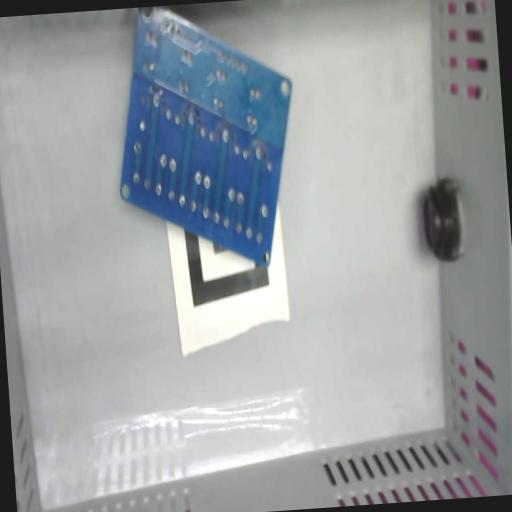relay_module: (106, 0, 305, 279)
